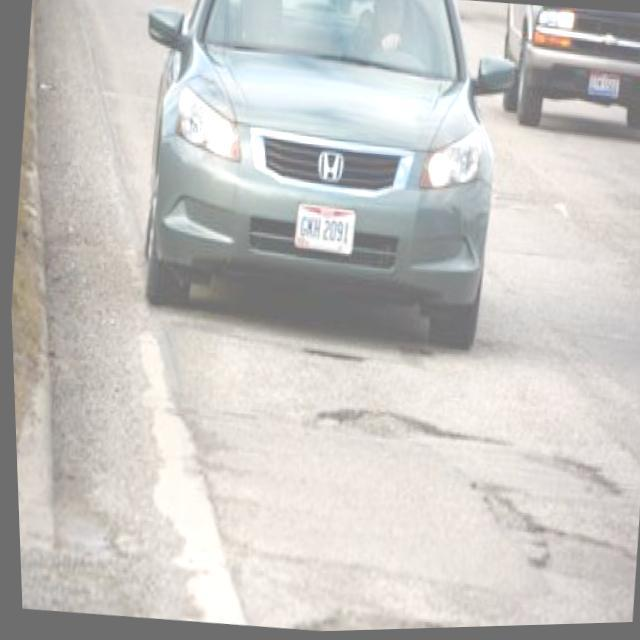Pothole: (473, 480, 636, 592), (321, 405, 447, 445)
